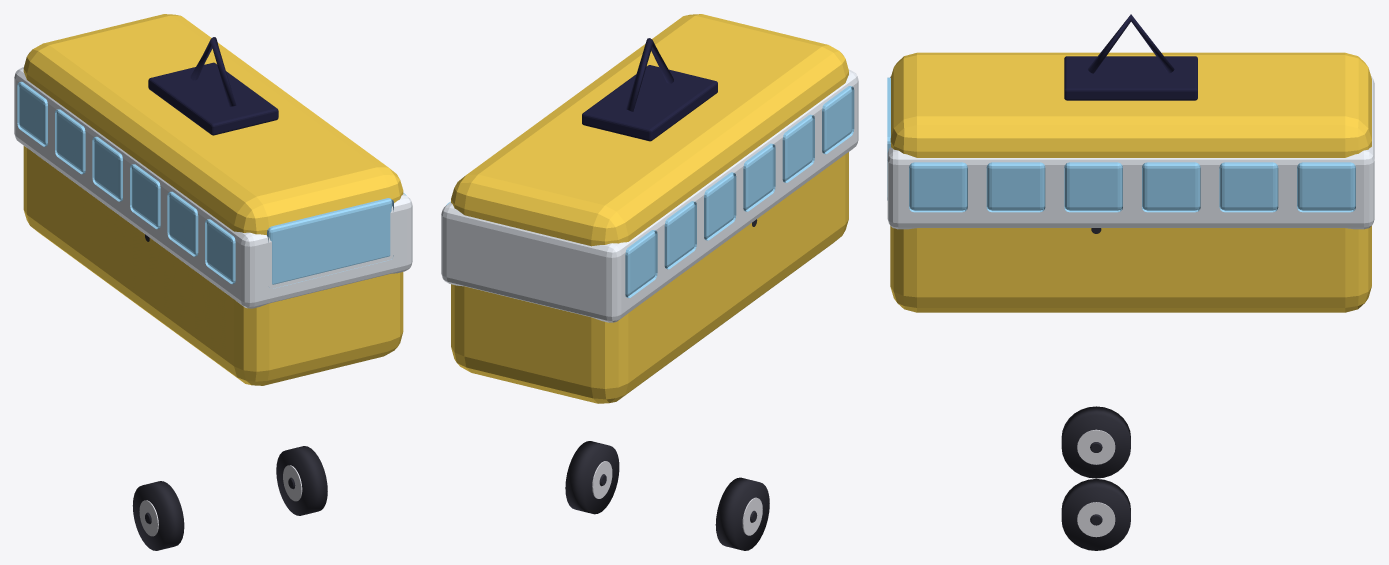
Rendered from Car_Tram.fbx.
The picture shows the model from 3 angles, left to right: view 1: azimuth 30°, elevation 25°; view 2: azimuth 150°, elevation 25°; view 3: azimuth 270°, elevation 25°; orthographic projection. The views are drawn at different scales.
Visible parts, largest first — view 1: Car_Tram, Wheel_FR, Wheel_FL; view 2: Car_Tram, Wheel_FR, Wheel_FL; view 3: Car_Tram, Wheel_FR, Wheel_FL.
Part boxes in pixels (<box>): Car_Tram: <box>14,14,412,385</box>; Wheel_FR: <box>276,446,327,515</box>; Wheel_FL: <box>132,481,184,550</box>; Car_Tram: <box>441,14,858,403</box>; Wheel_FR: <box>565,441,619,514</box>; Wheel_FL: <box>715,477,769,550</box>; Car_Tram: <box>887,14,1374,312</box>; Wheel_FR: <box>1061,479,1130,550</box>; Wheel_FL: <box>1061,406,1130,478</box>.
Bounding box in the file's own units: 0.78 × 2.04 × 1.82.
